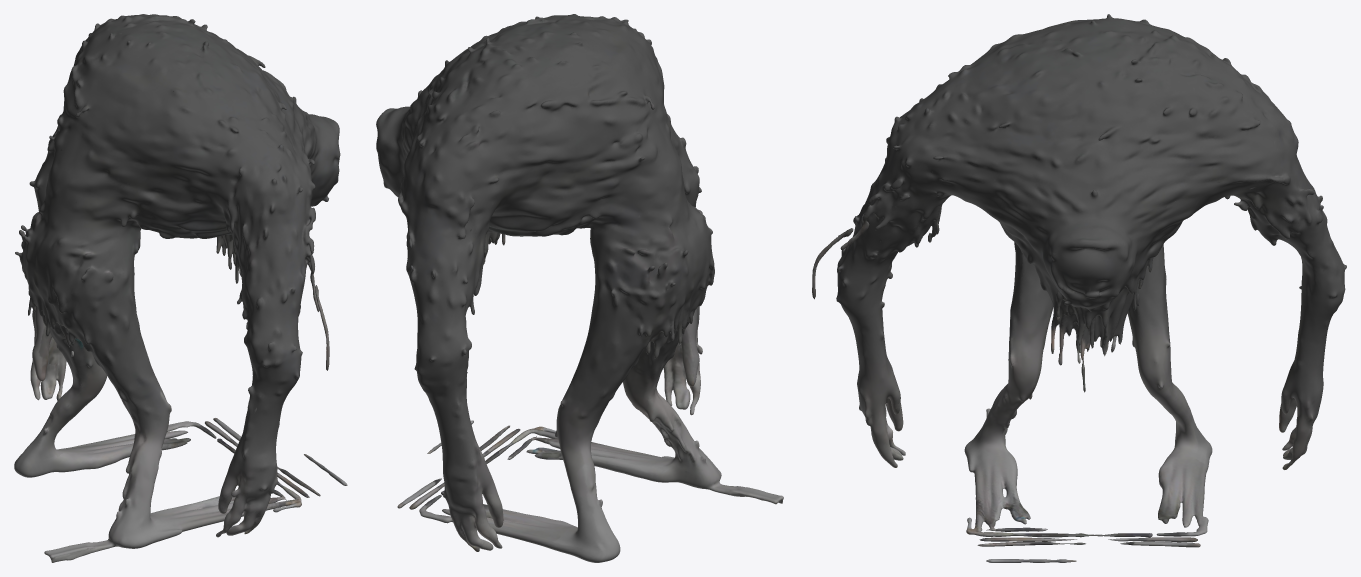
File: tripo_convert_8dc7069d-b438-43d8-8415-367facf107e7.fbx
3 renders of one model, left to right at view 1: azimuth 30°, elevation 25°; view 2: azimuth 150°, elevation 25°; view 3: azimuth 270°, elevation 25°, orthographic. The views are drawn at different scales.
Visible parts, largest first — view 1: tripo_node_8dc7069d-b438-43d8-8415-367facf107e7; view 2: tripo_node_8dc7069d-b438-43d8-8415-367facf107e7; view 3: tripo_node_8dc7069d-b438-43d8-8415-367facf107e7.
Part boxes in pixels (x1,y1,x2,y2): tripo_node_8dc7069d-b438-43d8-8415-367facf107e7: (14, 14, 347, 562); tripo_node_8dc7069d-b438-43d8-8415-367facf107e7: (376, 14, 783, 562); tripo_node_8dc7069d-b438-43d8-8415-367facf107e7: (812, 14, 1346, 562).
Bounding box in the file's own units: 71.07 × 91.65 × 93.95.
Materials: 1 (1 with a texture image).
